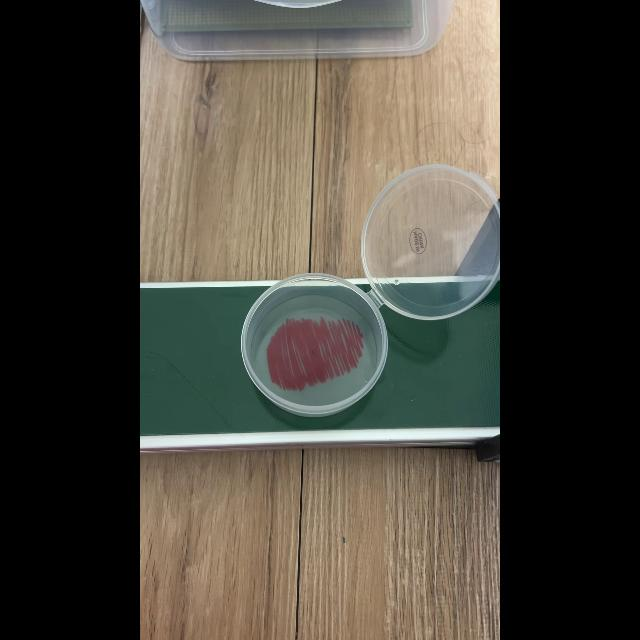dirty: (242, 286, 388, 410)
